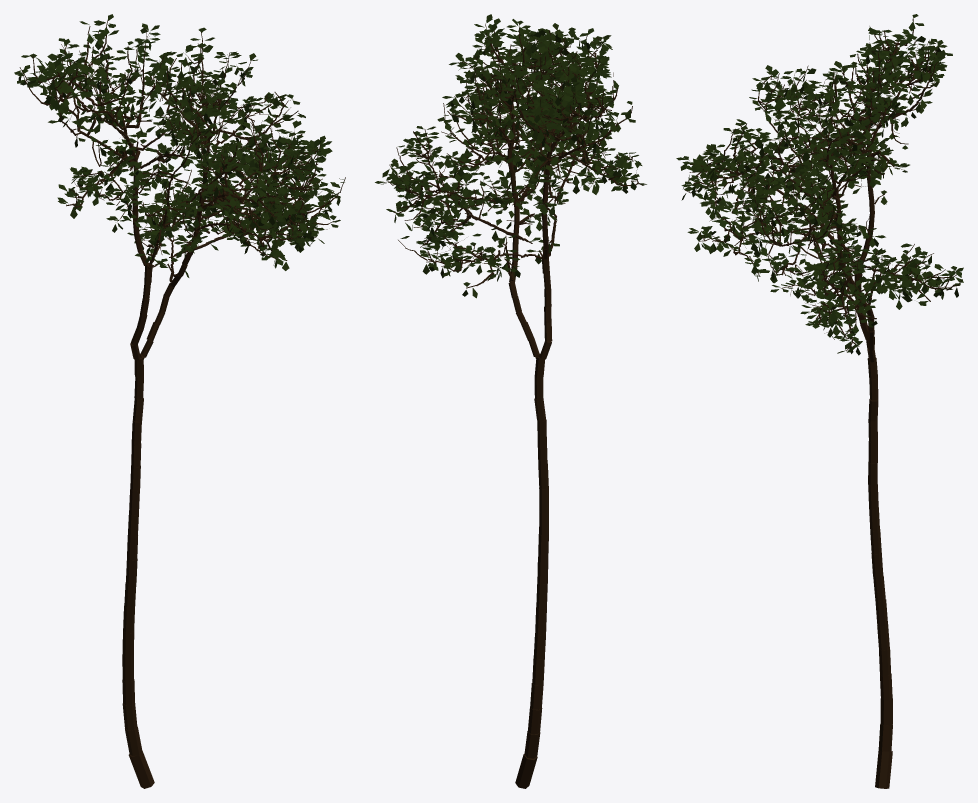
File: tree_92.obj
3 views of the same model, side by side, from view 1: azimuth 30°, elevation 25°; view 2: azimuth 150°, elevation 25°; view 3: azimuth 270°, elevation 25° (orthographic). The views are drawn at different scales.
Visible parts, largest first — view 1: Leaves, TrunkAndBranches; view 2: Leaves, TrunkAndBranches; view 3: Leaves, TrunkAndBranches.
Part boxes in pixels (<box>): Leaves: <box>14,14,344,277</box>; TrunkAndBranches: <box>19,20,345,788</box>; Leaves: <box>375,14,646,298</box>; TrunkAndBranches: <box>384,23,643,788</box>; Leaves: <box>676,14,963,355</box>; TrunkAndBranches: <box>685,18,962,788</box>.
Bounding box in the file's own units: 7.48 × 20.05 × 6.99.
